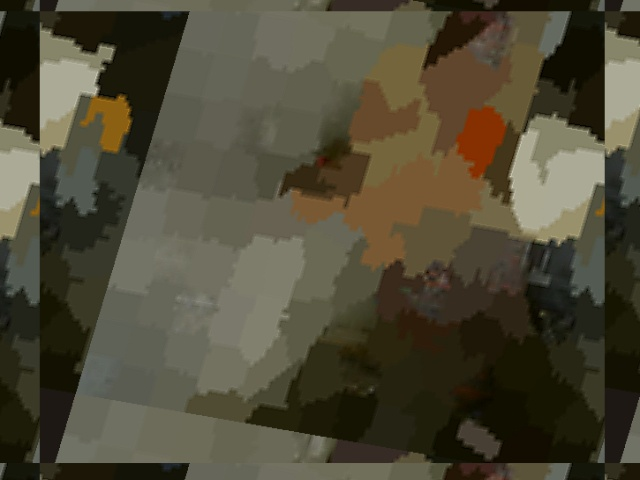one: (535, 144, 585, 195)
